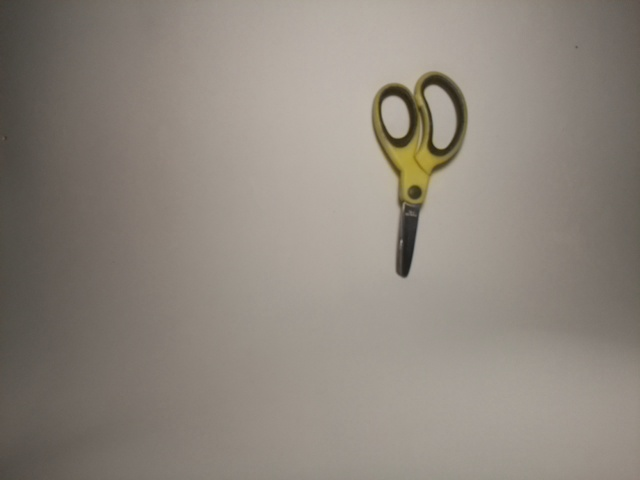Tesoura: (361, 71, 478, 278)
